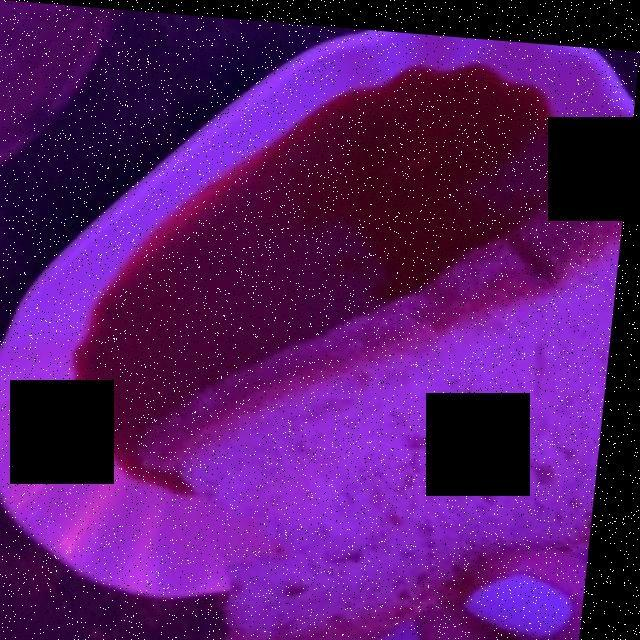bread: (147, 163, 616, 640)
ketchup: (86, 52, 580, 459)
